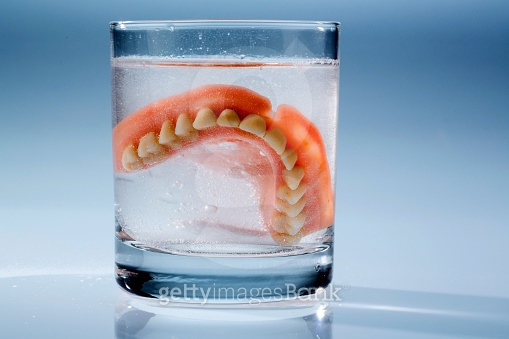glass of water: (107, 11, 341, 317)
